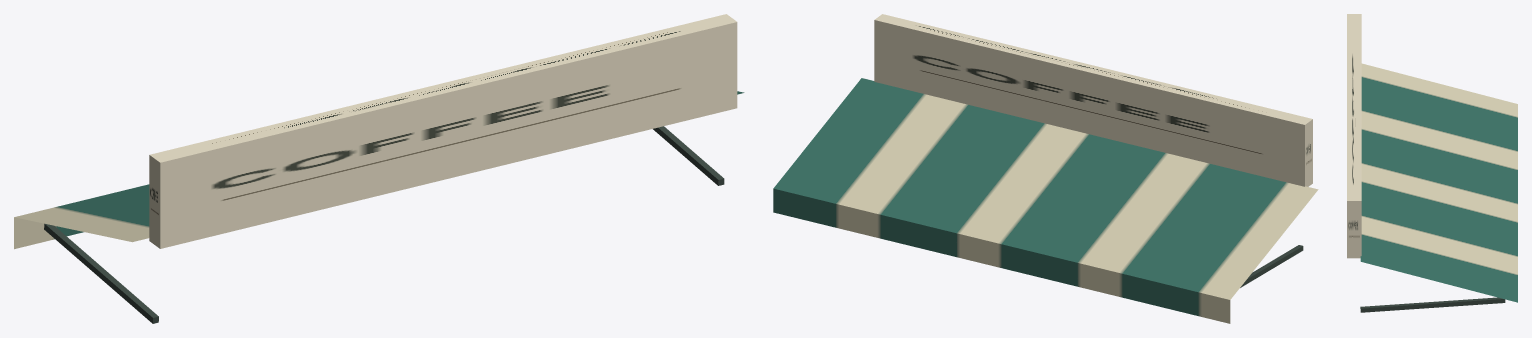
The model's file is SM_QD_StreetPark_ShopCanopy.fbx.
3 renders of one model, left to right at view 1: azimuth 30°, elevation 25°; view 2: azimuth 150°, elevation 25°; view 3: azimuth 270°, elevation 25°, orthographic. The views are drawn at different scales.
Visible parts, largest first — view 1: SM_QD_StreetPark_ShopCanopy; view 2: SM_QD_StreetPark_ShopCanopy; view 3: SM_QD_StreetPark_ShopCanopy.
Part boxes in pixels (bbox=[...]): SM_QD_StreetPark_ShopCanopy: bbox=[14, 14, 744, 323]; SM_QD_StreetPark_ShopCanopy: bbox=[773, 14, 1318, 323]; SM_QD_StreetPark_ShopCanopy: bbox=[1347, 14, 1517, 312].
Size of the model in its own units: 2.6 by 0.945 by 0.715.
